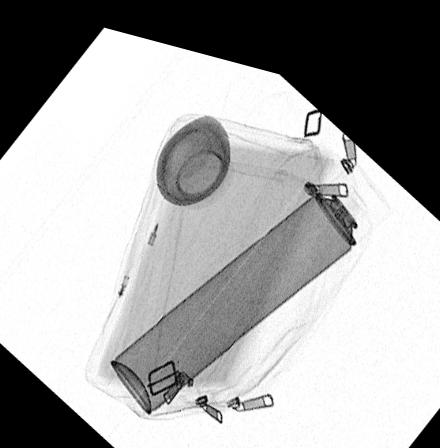Sprayer: (108, 142, 389, 407)
